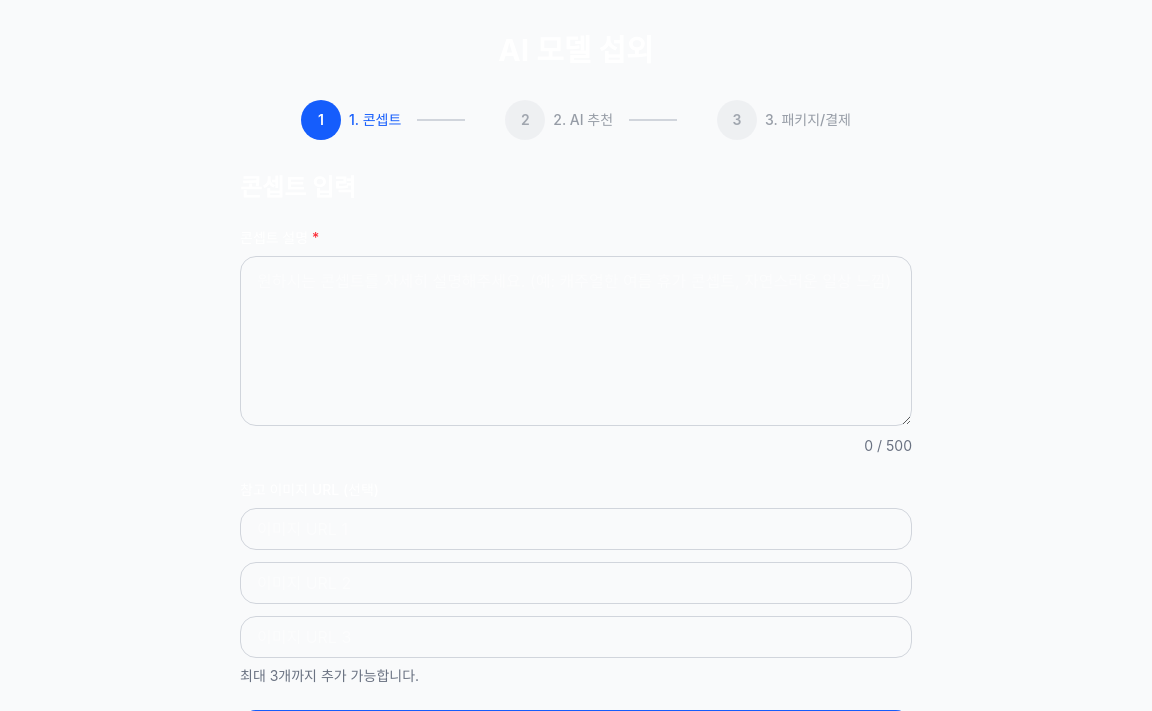
Test: BookingWizard › Test 9: 스텝퍼 클릭으로 이전 단계 이동 › navigates back to Step 1 when clicking stepper
Navigate to Step 2
Type "테스트 콘셉트" into the text box with placeholder "원하시는 콘셉트를 자세히 설명해주세요. (예: 캐주얼한 여름 휴가 콘셉트, 자연스러운 일상 느낌)". click: (576, 341)
box: [240, 256, 912, 426]
(page scrolled)
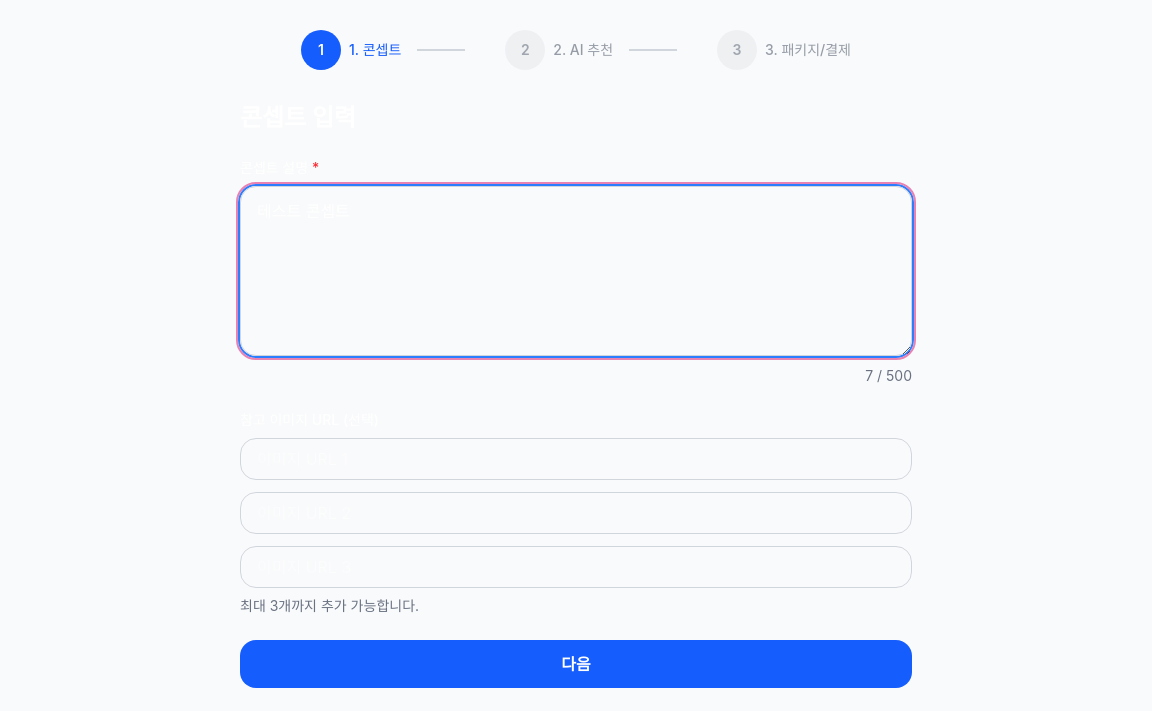
Click the button "다음". click: click(576, 664)
box: [240, 640, 912, 688]
(page scrolled)
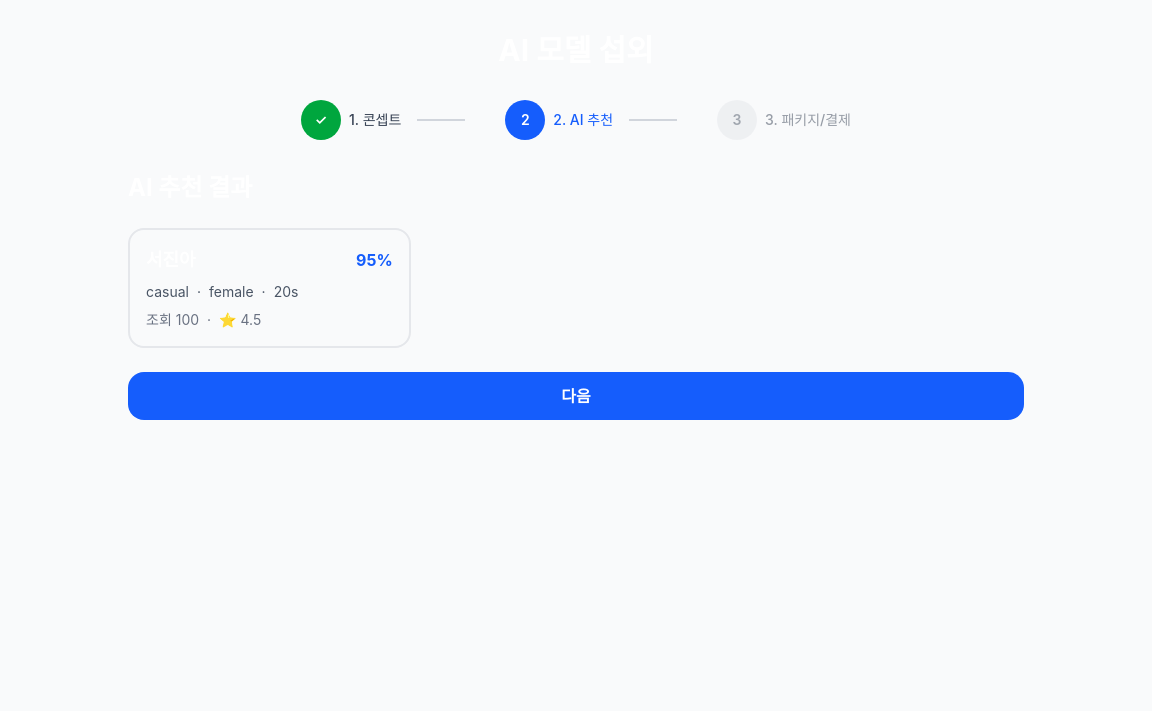
Click Step 1 in stepper
Click the button "✓ 1. 콘셉트". click: click(351, 120)
box: [301, 100, 401, 140]
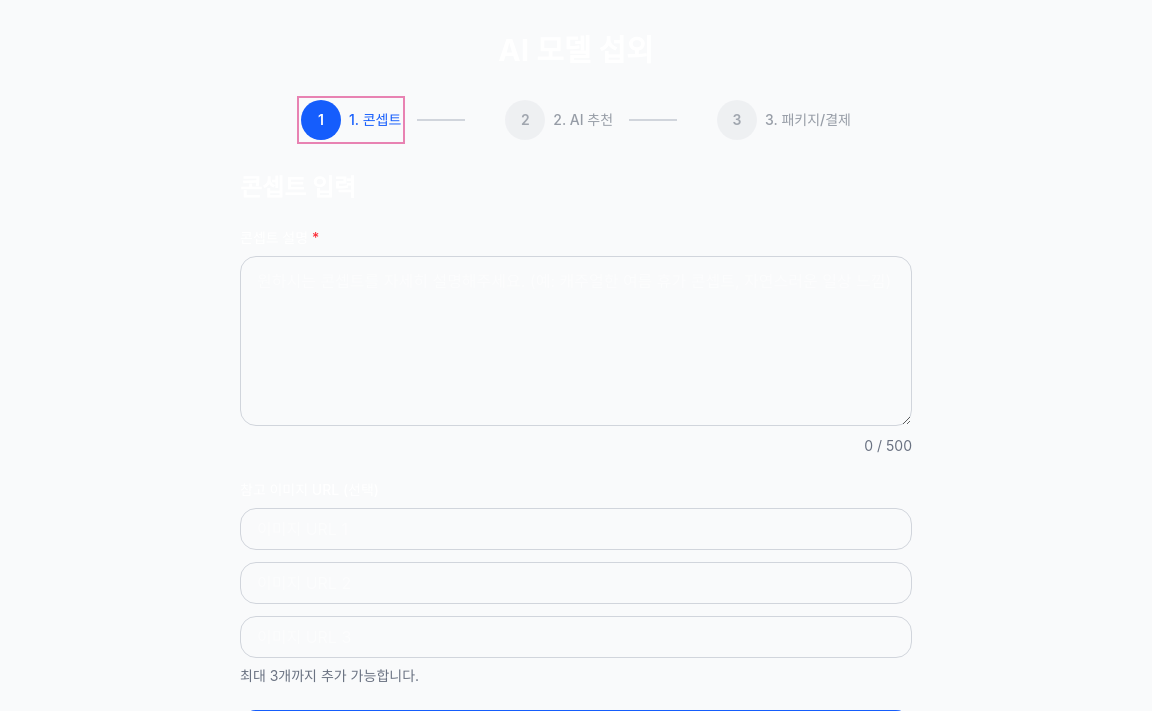
Result: the text box with placeholder "원하시는 콘셉트를 자세히 설명해주세요. (예: 캐주얼한 여름 휴가 콘셉트, 자연스러운 일상 느낌)" is shown at [240, 256, 912, 426]
